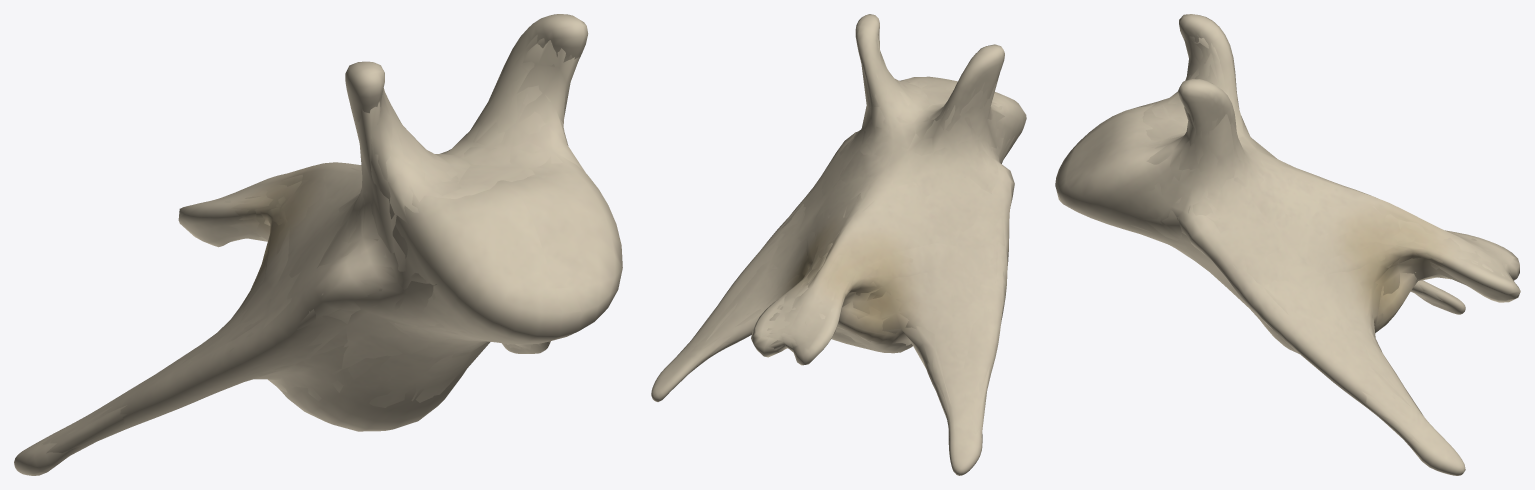
File: vertebrae caudales 03.fbx
The picture shows the model from 3 angles, left to right: view 1: azimuth 30°, elevation 25°; view 2: azimuth 150°, elevation 25°; view 3: azimuth 270°, elevation 25°; orthographic projection. The views are drawn at different scales.
Parts seen in each view (by area): view 1: vertebrae caudales 03 high, vertebrae caudales 03 low, vertebrae caudales 03; view 2: vertebrae caudales 03 high, vertebrae caudales 03 low, vertebrae caudales 03; view 3: vertebrae caudales 03 high, vertebrae caudales 03 low, vertebrae caudales 03.
Boxes of the visible parts, x1,y1,x2,y2 form: vertebrae caudales 03 high: (14, 14, 622, 475); vertebrae caudales 03 low: (46, 40, 585, 453); vertebrae caudales 03: (41, 34, 572, 467); vertebrae caudales 03 high: (651, 14, 1026, 475); vertebrae caudales 03 low: (674, 30, 1015, 437); vertebrae caudales 03: (671, 33, 1013, 442); vertebrae caudales 03 high: (1055, 14, 1520, 475); vertebrae caudales 03 low: (1126, 37, 1513, 447); vertebrae caudales 03: (1090, 34, 1510, 455).
Bounding box in the file's own units: 5.72 × 5.41 × 6.59.
1 material, 1 textured.
